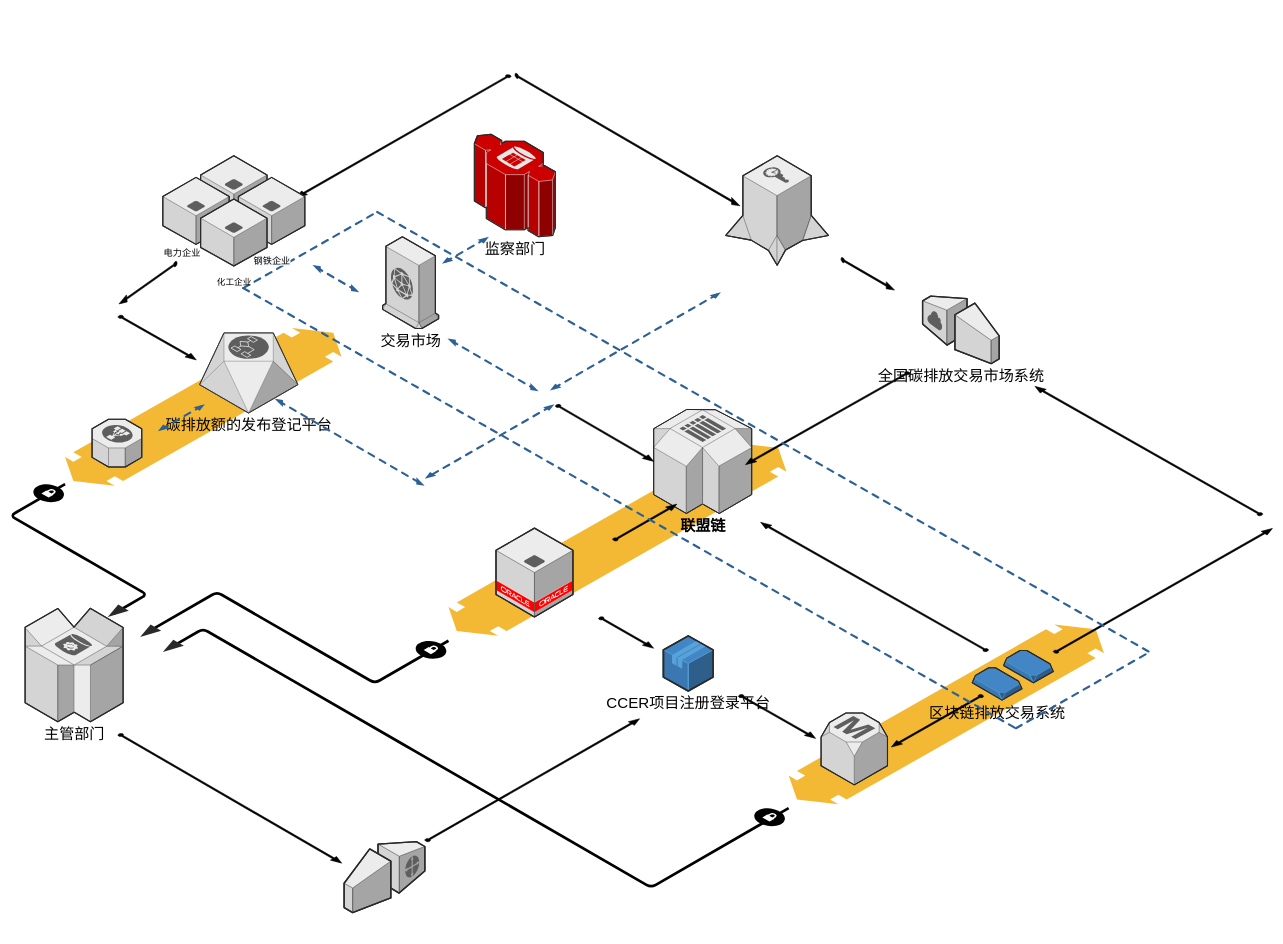
Some shapes in this 1283 by 944 pixel diagram are drawn without their labels. Each missing label, with the centre of its shape:
地方/区域: pixel 384 877
检查部门/监管系统: pixel 776 210
第三方机构: pixel 534 572
购买方: pixel 854 749
配额: pixel 117 443
